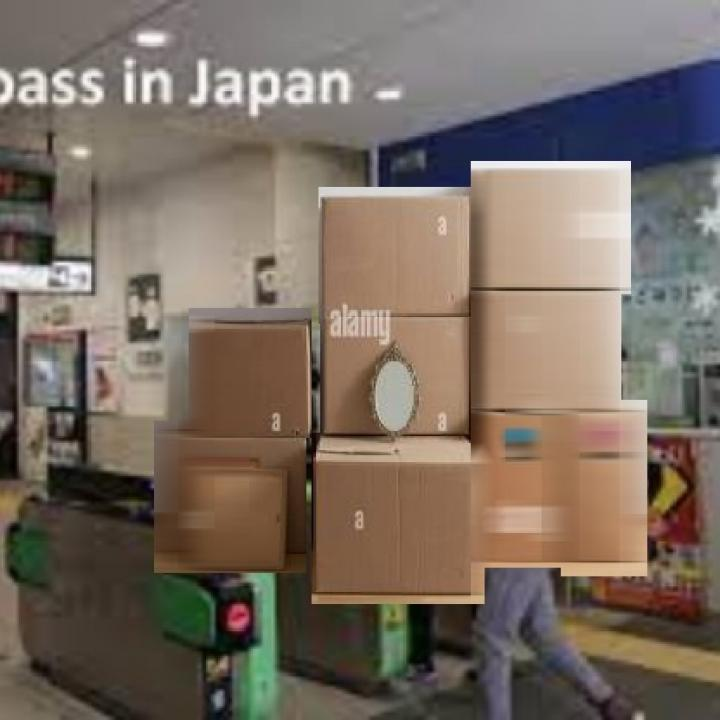box: (310, 431, 488, 607), (152, 418, 310, 577), (468, 160, 634, 297), (317, 186, 478, 326), (318, 310, 478, 441), (471, 294, 625, 417), (187, 307, 315, 442), (561, 398, 649, 580), (472, 405, 565, 571)
